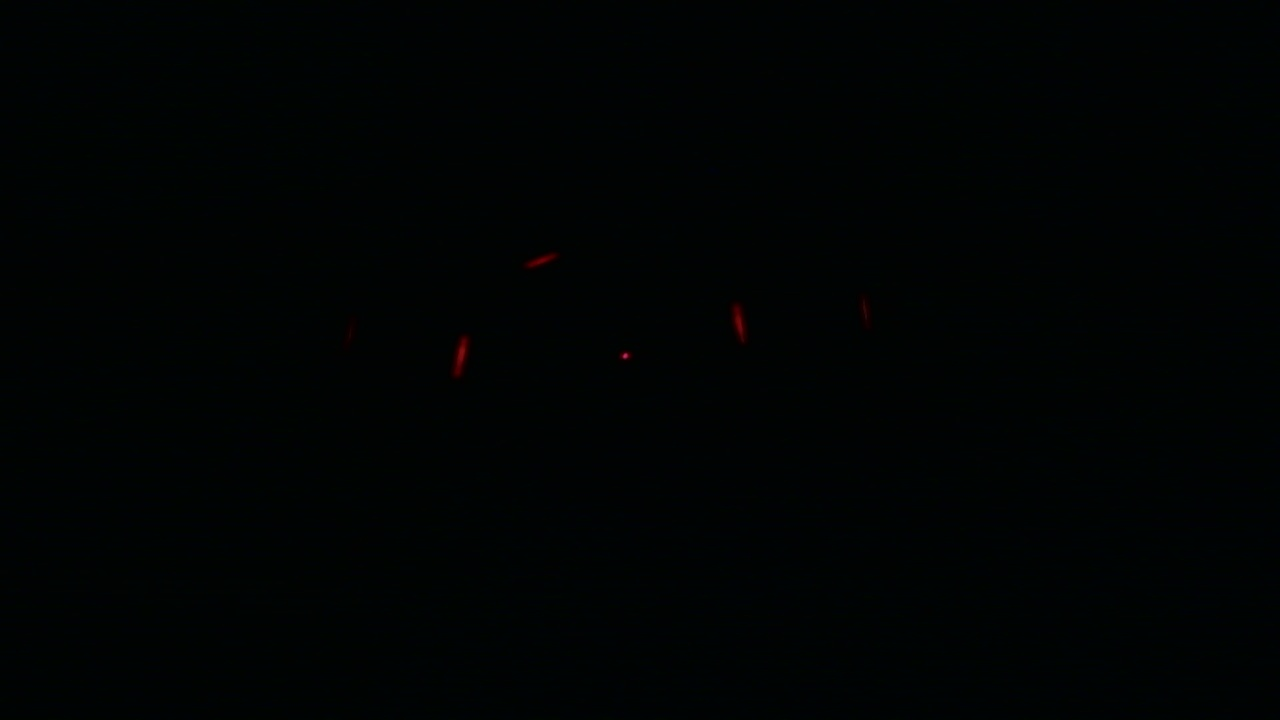lamp: (728, 303, 751, 346), (455, 331, 472, 379)
notpair2: (455, 305, 750, 382)
